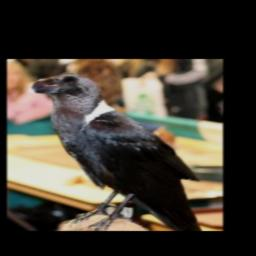Crow: (27, 71, 203, 230)
